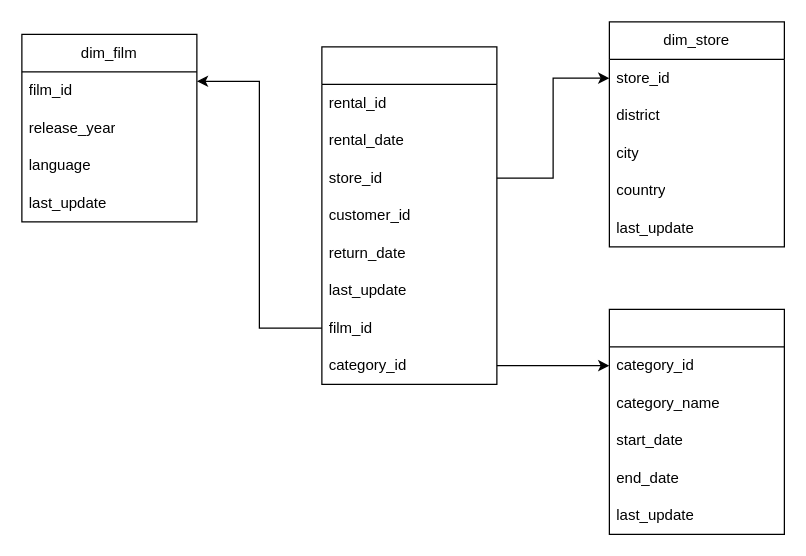
This 806x556 diagram has some shape labels left out. The box of each missing label's shape, as (x1, y1, x2, y2) in pixels:
dim_category: (608, 308, 784, 534)
fact_rentals: (321, 46, 497, 384)
